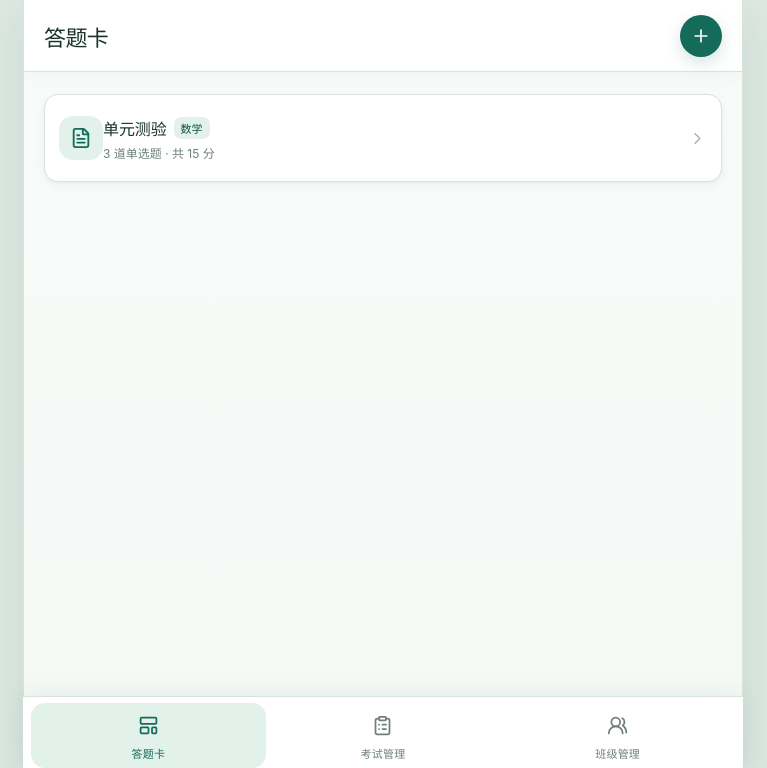
Answer Sheet Manager H5 › copies an answer sheet without retaining obsolete score data
This screenshot has width=767, height=768.
Click the button "单元测验 数学 3 道单选题 · 共 15 分". click: coordinates (81, 138)
box: [44,94,722,182]
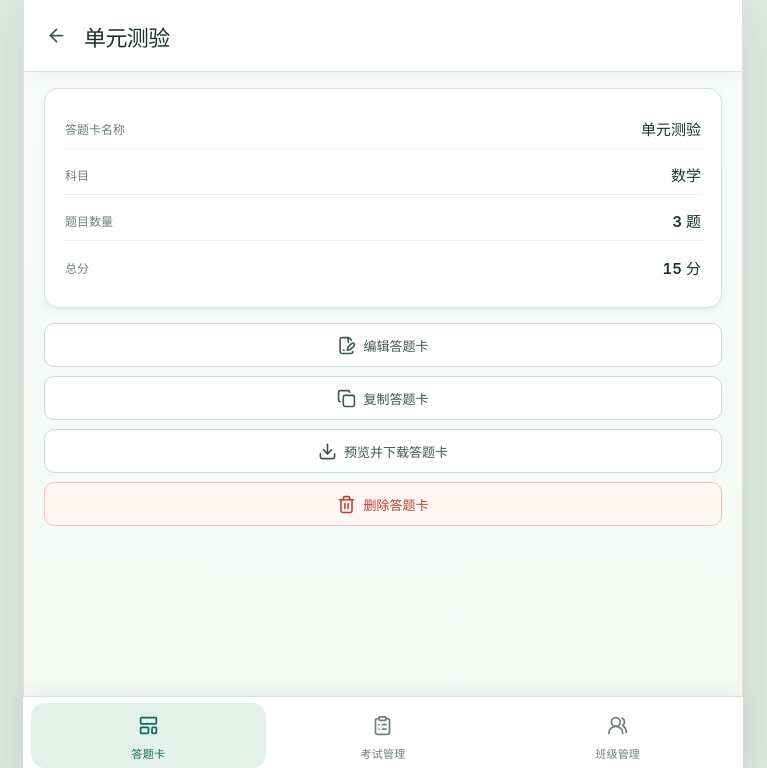
Click the button "复制答题卡". click: coordinates (383, 398)
box: [44,376,722,420]
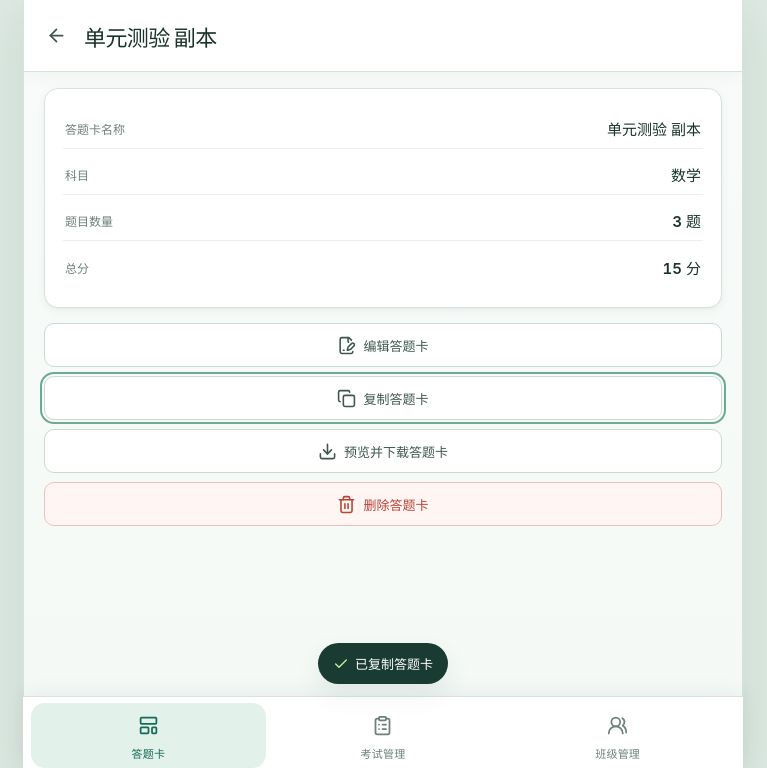
Expected: the heading "单元测验 副本" is shown, [84,24,217,50]
